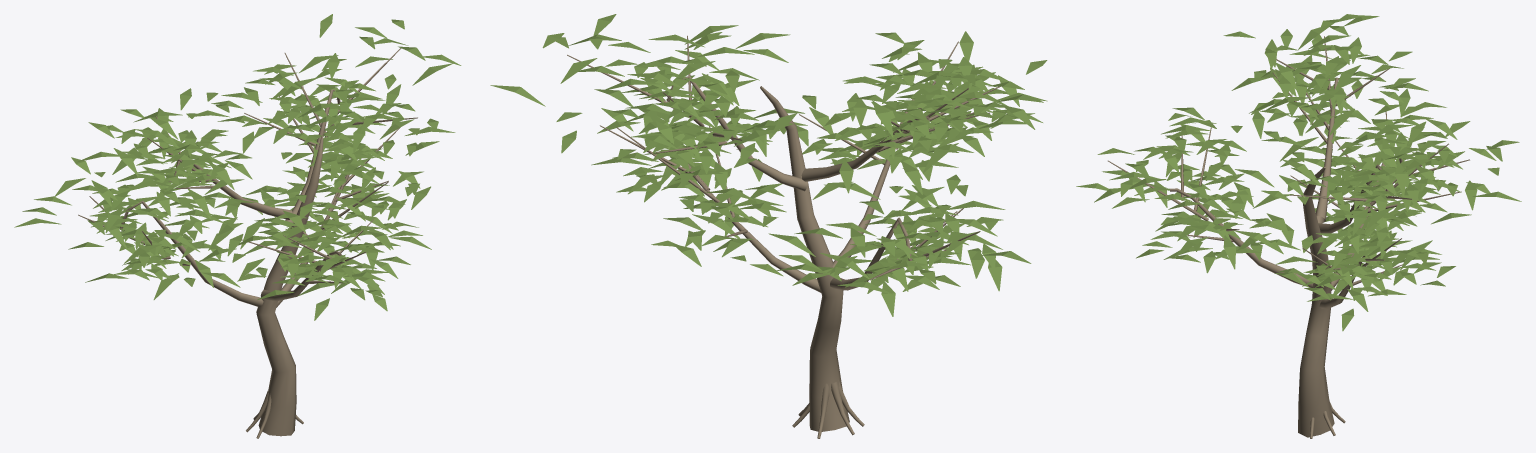
The model's file is small_tree_lod1.glb.
3 views of the same model, side by side, from view 1: azimuth 30°, elevation 25°; view 2: azimuth 150°, elevation 25°; view 3: azimuth 270°, elevation 25° (orthographic). The views are drawn at different scales.
Visible parts, largest first — view 1: Leaves, Bark; view 2: Leaves, Bark; view 3: Leaves, Bark.
Part boxes in pixels (left/top/right/bottom): Leaves: left=14, top=14, right=461, bottom=320; Bark: left=78, top=48, right=417, bottom=438; Leaves: left=490, top=14, right=1047, bottom=316; Bark: left=567, top=35, right=1000, bottom=438; Leaves: left=1076, top=14, right=1521, bottom=331; Bark: left=1108, top=36, right=1469, bottom=438.
Size of the model in its own units: 10.34 by 7.53 by 8.63.
